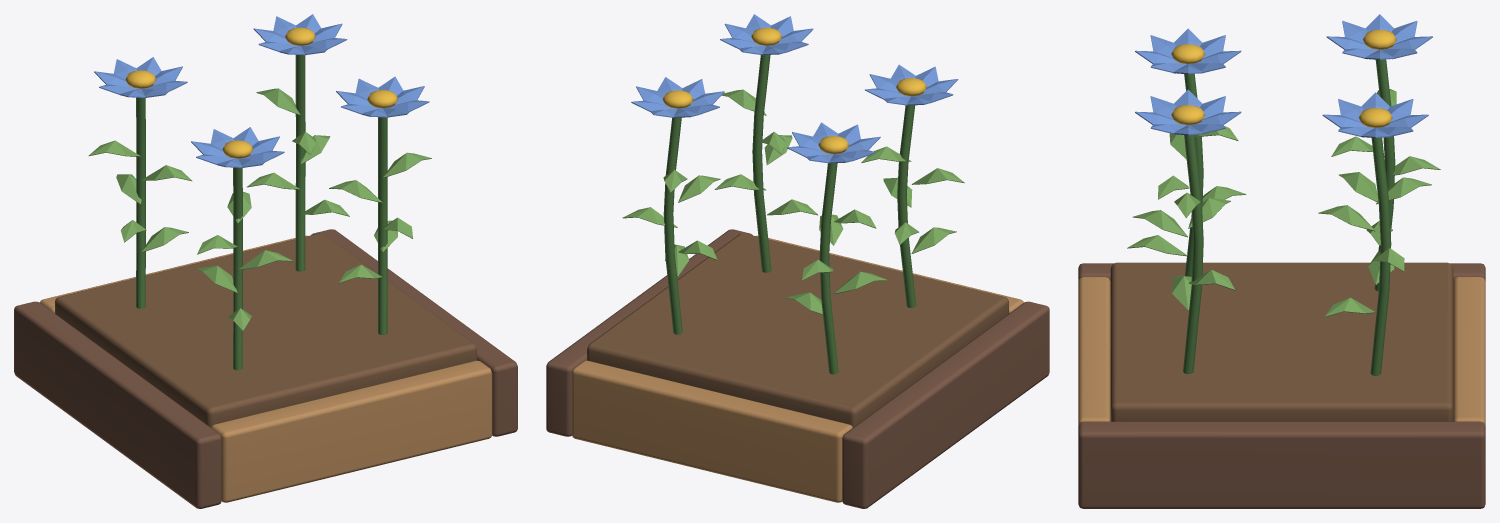
Rendered from garden.flower.cornflower-new.glb.
The picture shows the model from 3 angles, left to right: view 1: azimuth 30°, elevation 25°; view 2: azimuth 150°, elevation 25°; view 3: azimuth 270°, elevation 25°; orthographic projection. The views are drawn at different scales.
Visible parts, largest first — view 1: Cedar raised bed rail; view 2: Cedar raised bed rail; view 3: Cedar raised bed rail.
Part boxes in pixels (x1,y1,x2,y2): Cedar raised bed rail: (14, 14, 517, 508); Cedar raised bed rail: (546, 14, 1049, 508); Cedar raised bed rail: (1078, 14, 1485, 508).
Size of the model in its own units: 1 by 0.9658 by 1.
